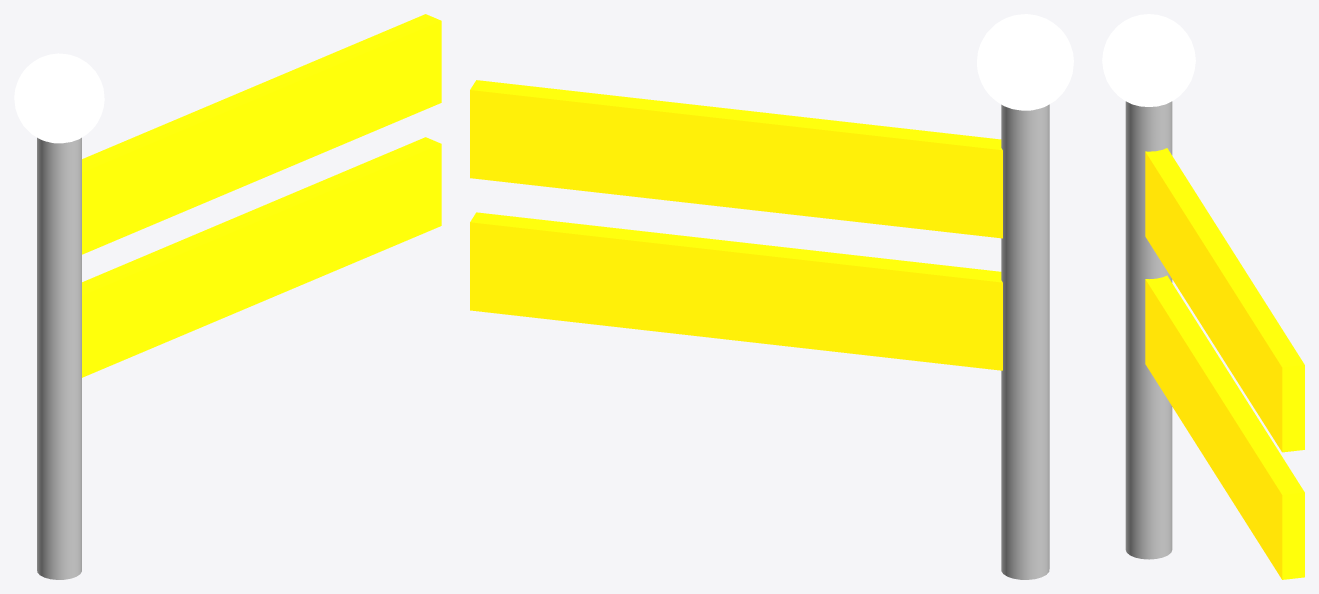
The model's file is StreetDecoOnLamp1_PH.fbx.
3 views of the same model, side by side, from view 1: azimuth 30°, elevation 25°; view 2: azimuth 150°, elevation 25°; view 3: azimuth 270°, elevation 25° (orthographic). The views are drawn at different scales.
Parts seen in each view (by area): view 1: ChineseDeco__27_, ChineseDeco__28_, Lampost, LampLight; view 2: ChineseDeco__28_, ChineseDeco__27_, Lampost, LampLight; view 3: ChineseDeco__27_, ChineseDeco__28_, Lampost, LampLight.
Boxes of the visible parts, left/top/right/bottom form: ChineseDeco__27_: left=82, top=14, right=441, bottom=254; ChineseDeco__28_: left=82, top=137, right=441, bottom=377; Lampost: left=37, top=137, right=81, bottom=579; LampLight: left=14, top=53, right=104, bottom=143; ChineseDeco__28_: left=470, top=212, right=1002, bottom=370; ChineseDeco__27_: left=470, top=80, right=1002, bottom=238; Lampost: left=1001, top=104, right=1049, bottom=579; LampLight: left=977, top=14, right=1073, bottom=110; ChineseDeco__27_: left=1145, top=148, right=1304, bottom=452; ChineseDeco__28_: left=1145, top=275, right=1304, bottom=579; Lampost: left=1125, top=101, right=1172, bottom=559; LampLight: left=1102, top=14, right=1195, bottom=106.
Bounding box in the file's own units: 310 × 312 × 108.
